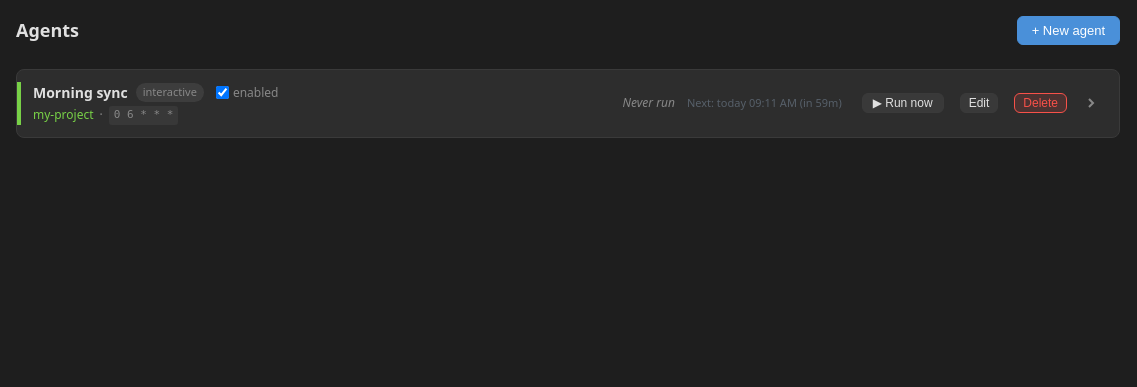
AC#7: View all runs link › shows 'View all runs' link when schedule is expanded and has runs
// Click the header to expand
Click the text "Morning sync".
click(80, 92)  # box [33,82,128,103]
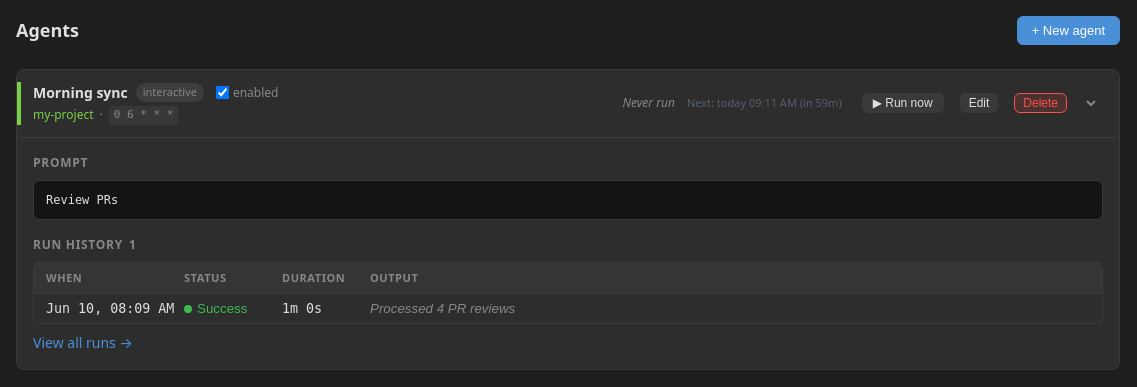
expect the link with test id "view-all-runs-link" reads "View all runs →": met, box [33,333,133,352]
